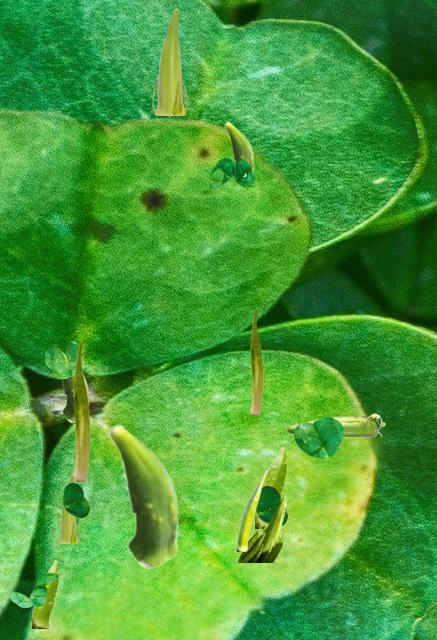okra: (108, 423, 179, 568), (151, 8, 186, 114), (237, 494, 287, 561), (255, 446, 286, 527), (286, 413, 384, 437), (237, 469, 266, 550), (73, 342, 89, 480), (59, 348, 88, 422), (32, 559, 58, 627), (224, 121, 253, 177), (56, 474, 78, 542), (250, 308, 262, 414)
